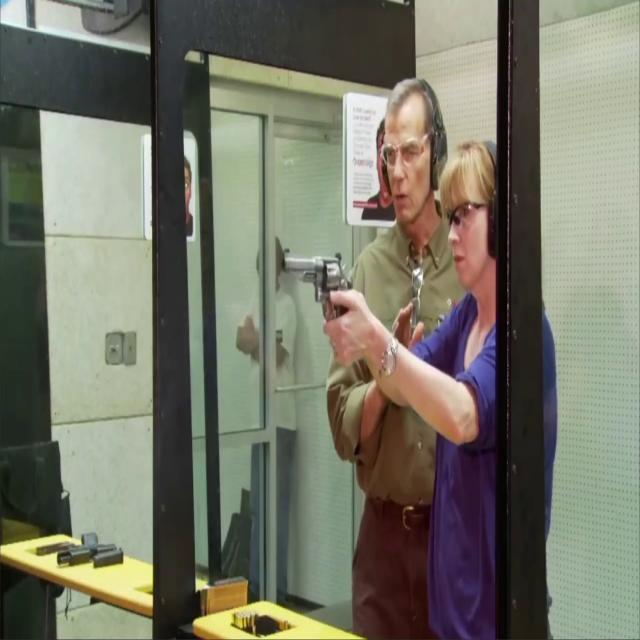gun: (281, 252, 354, 336)
